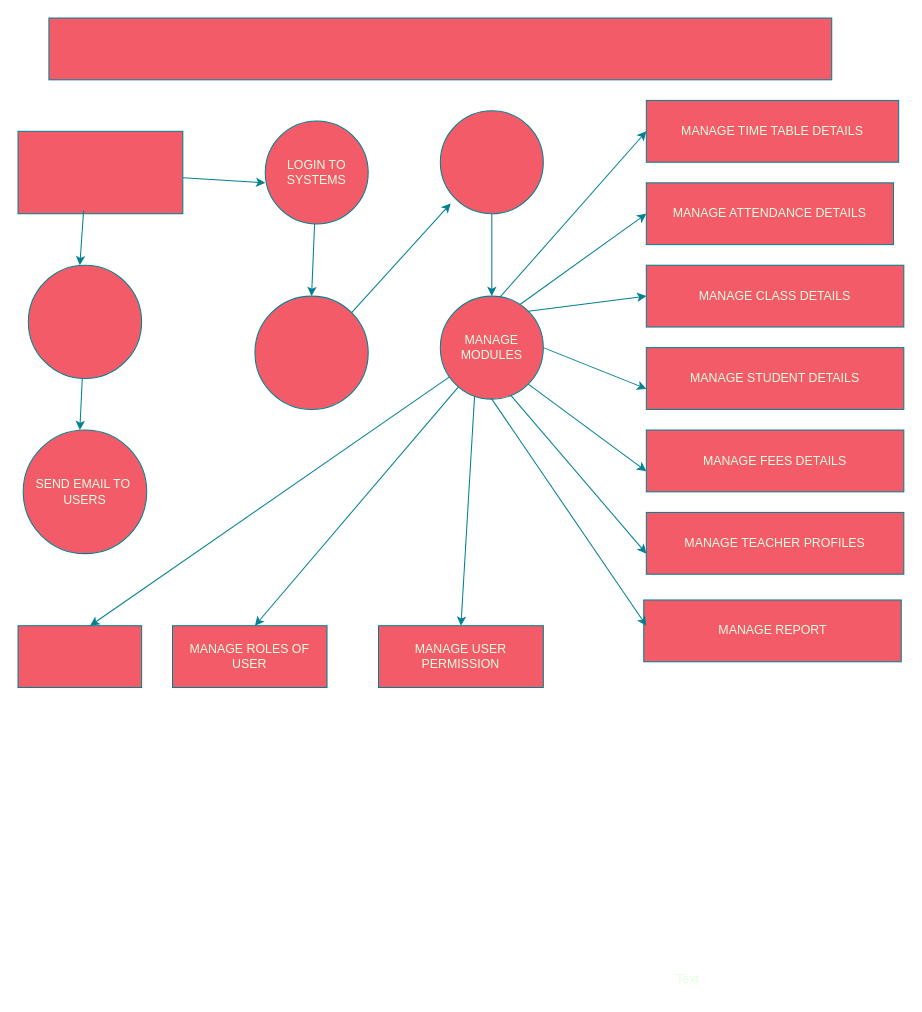
The diagram is 922 pixels wide and 1012 high, and some of its shapes have lost their labels. Each missing label, with the centre of its shape:
"ADMIN" belongs at (x=100, y=172).
"CHECK CREDENTIALS" belongs at (x=311, y=352).
"CHECK ROLES OF ACESS" belongs at (x=491, y=162).
"FORGOT PASSWORD" belongs at (x=84, y=321).
"MANAGE SYSTEM ADMINS" belongs at (x=79, y=656).
"STUDENT INFORMATION SYSTEMS" belongs at (x=440, y=48).
